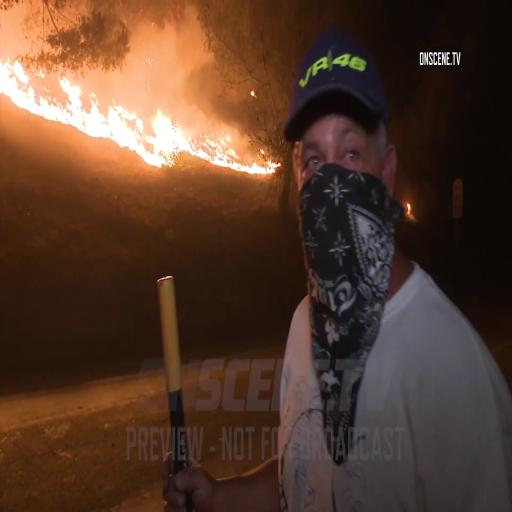fire: (101, 88, 175, 170)
